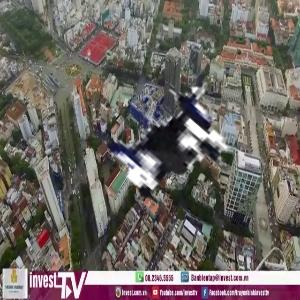drone: (44, 29, 242, 227)
